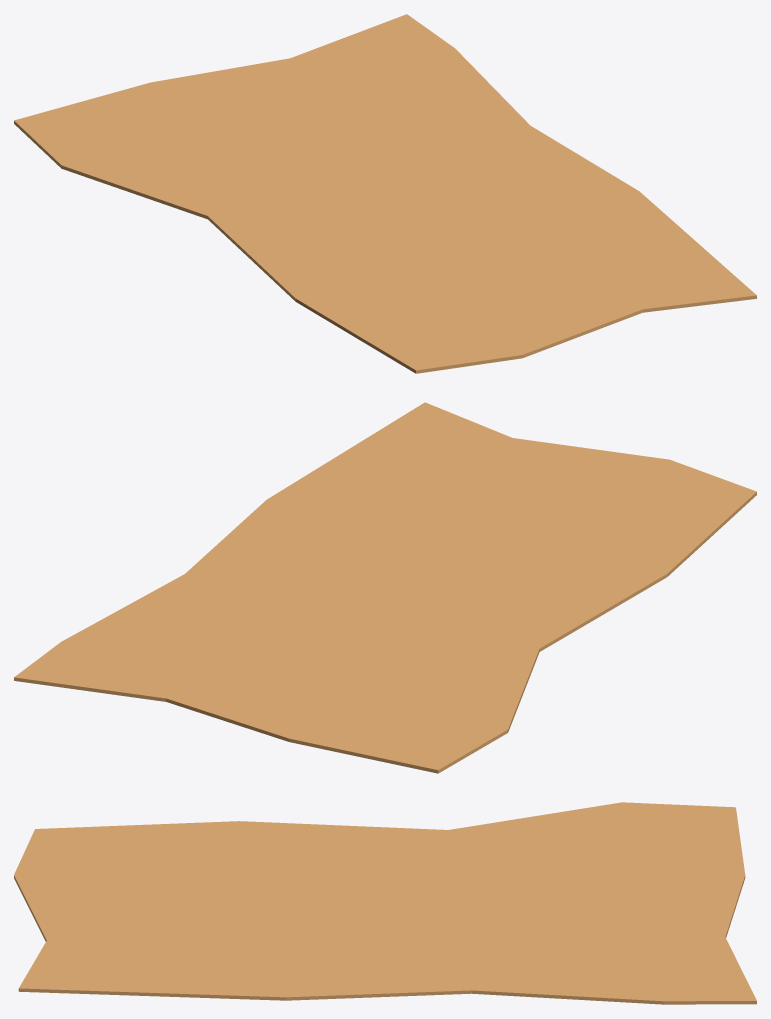
Rendered from brown ground.fbx.
3 renders of one model, top to bottom at view 1: azimuth 30°, elevation 25°; view 2: azimuth 150°, elevation 25°; view 3: azimuth 270°, elevation 25°, orthographic. The views are drawn at different scales.
Parts seen in each view (by area): view 1: Plane.011; view 2: Plane.011; view 3: Plane.011.
Boxes of the visible parts, x1,y1,x2,y2 form: Plane.011: (14, 14, 756, 373); Plane.011: (14, 402, 756, 773); Plane.011: (14, 802, 756, 1004).
Size of the model in its own units: 1665 by 13 by 2628.
